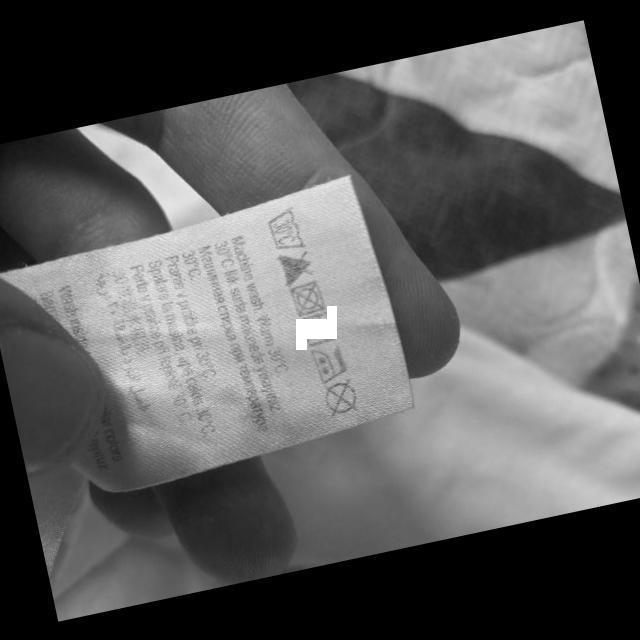30C: (262, 201, 308, 255)
DN_bleach: (270, 243, 318, 291)
DN_dry_clean: (318, 374, 362, 422)
DN_tumble_dry: (286, 276, 326, 318)
iron_medium: (307, 339, 351, 387)
